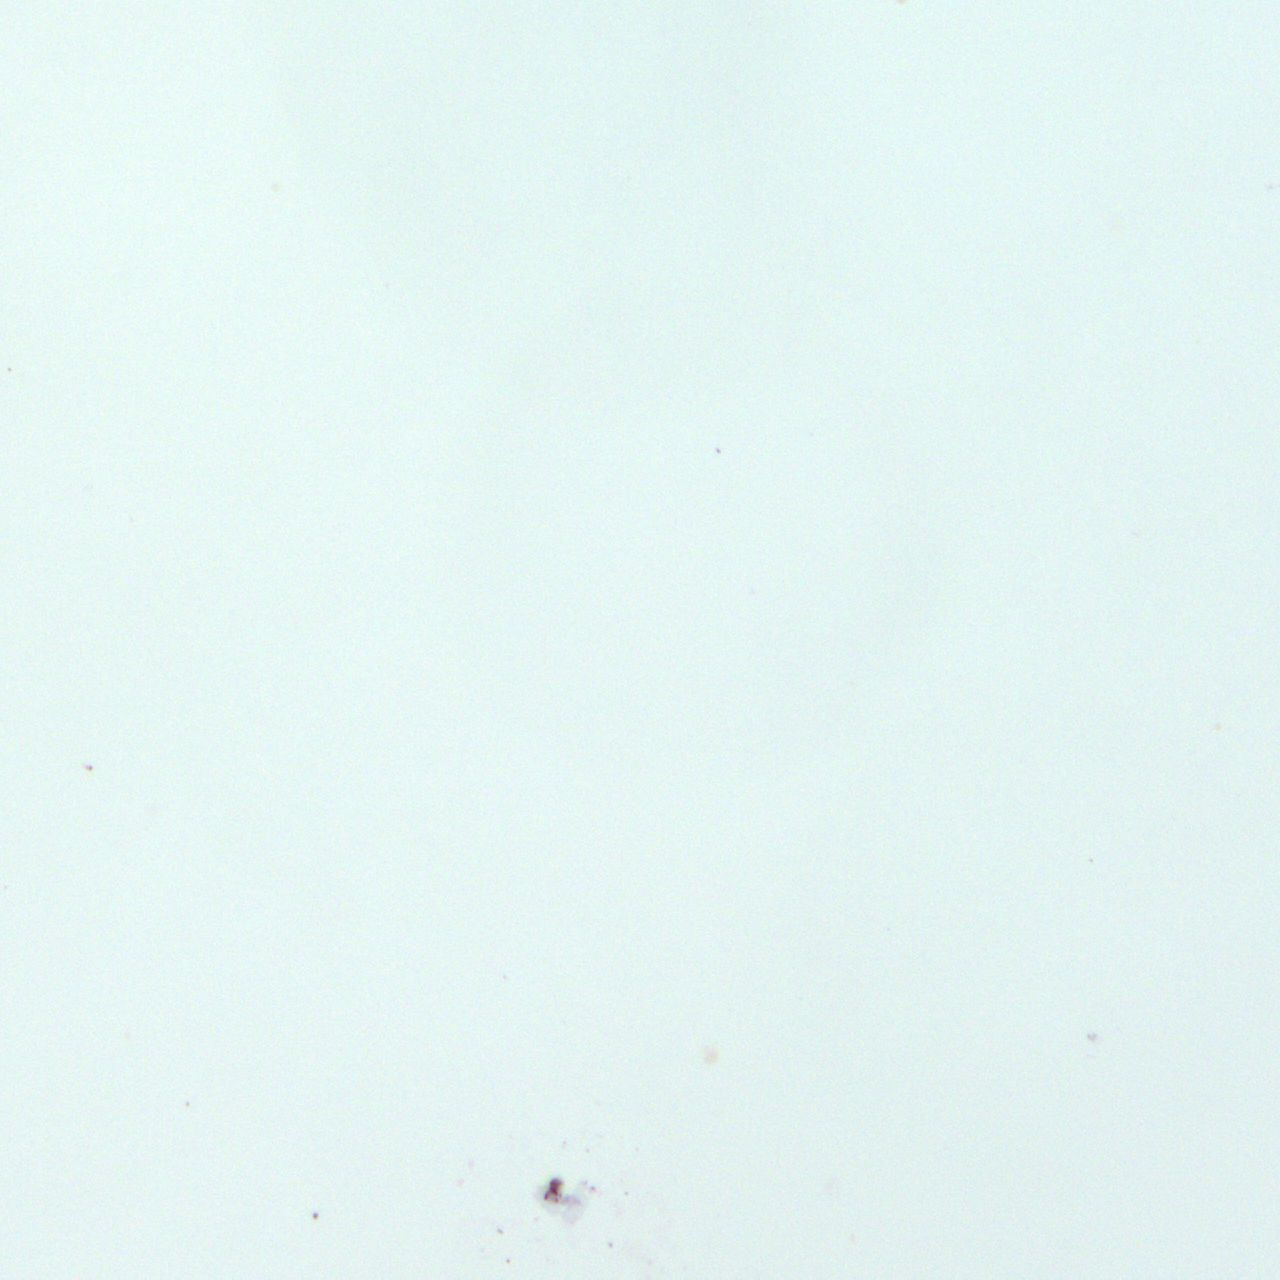dust: (543, 1179, 577, 1203), (704, 1049, 717, 1063), (1085, 1032, 1099, 1041)
